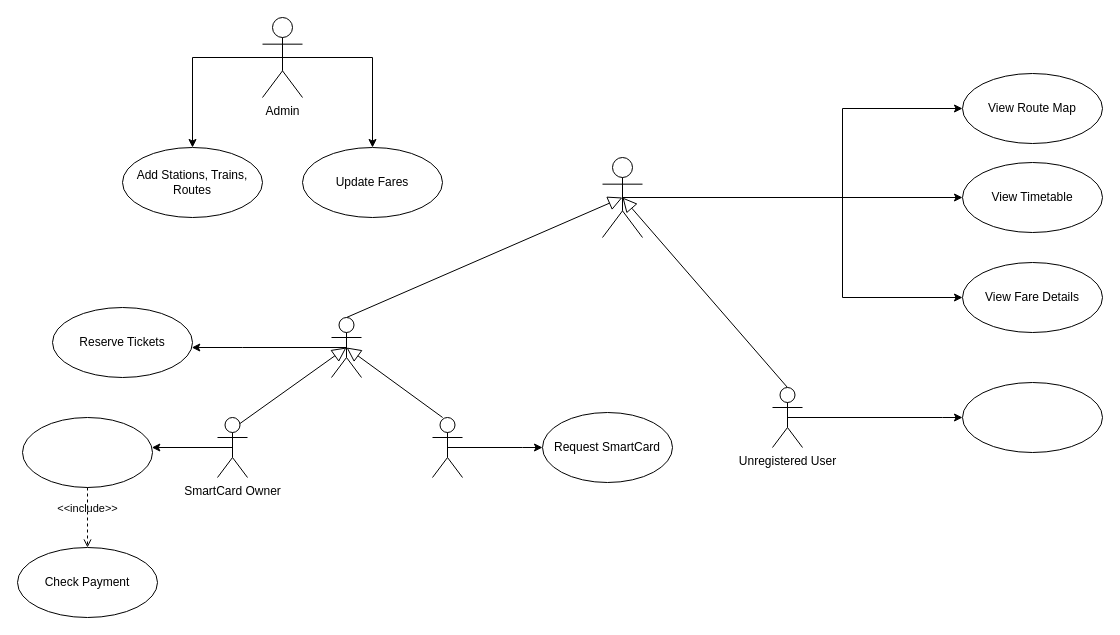
Some shapes in this 1120 by 635 pixel diagram are drawn without their labels. The box of each missing label's shape, as (x1, y1, x2, y2) in pixels:
Recharge SmartCard: (22, 416, 152, 488)
Register: (962, 382, 1102, 452)
Registered User: (330, 316, 362, 378)
Regular User: (432, 416, 462, 478)
User: (602, 156, 642, 238)
